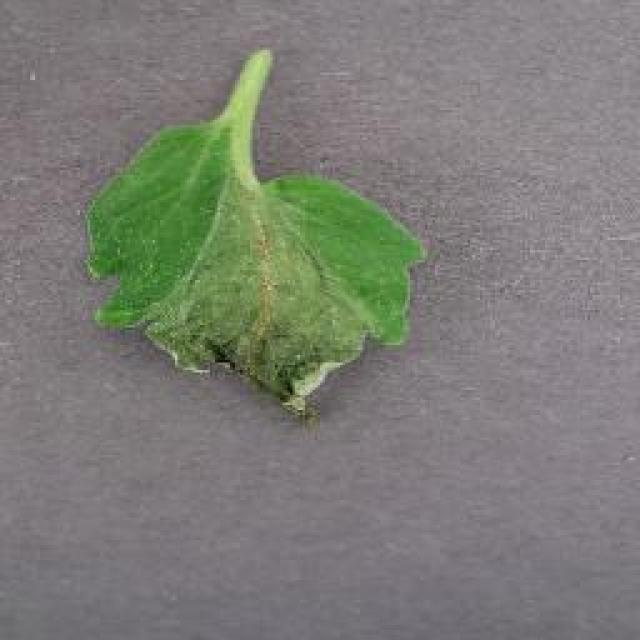Tomato___Late_blight: (82, 50, 428, 422)
